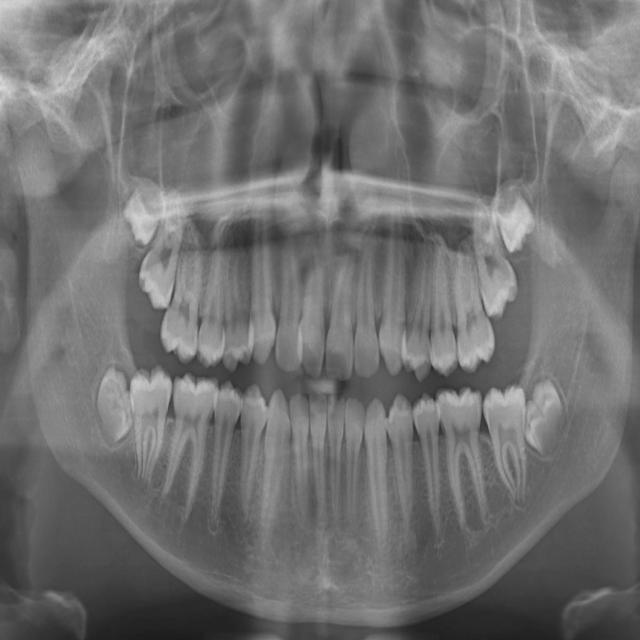3M ESPE Implant: (112, 173, 166, 251)
AGS Medikal Implant: (483, 378, 531, 512)
AMerOss Implant: (436, 383, 496, 538)
Amalgam filling: (128, 181, 204, 312)
Anthogyr Implant: (409, 390, 453, 547)
Bicon Implant: (388, 388, 414, 556)
BioHorizons Implant: (361, 391, 390, 562)
BioLife Implant: (339, 396, 365, 545)
Biomet 3i Implant: (323, 391, 348, 529)
Blue Sky Bio Implant: (298, 388, 332, 541)
Camlog Implant: (288, 387, 316, 531)
Caries: (352, 224, 380, 381)
Composite filling: (250, 382, 297, 567)
Cowellmedi Implant: (233, 381, 267, 530)
Crown: (201, 378, 242, 544)
DENTSPLY Implant: (155, 222, 205, 365)
Dentatus Implant: (150, 367, 219, 533)
Dentis Implant: (129, 362, 171, 496)
Dentium Implant: (92, 361, 131, 452)
Euroteknika Implant: (196, 207, 231, 369)
Filling: (221, 235, 250, 378)
Frontier Implant: (250, 171, 277, 373)
Hiossen Implant: (378, 192, 409, 383)
Implant: (297, 221, 330, 383)
Implant Direct: (273, 211, 305, 374)
Keystone Dental Implant: (319, 230, 373, 386)
MIS Implant: (404, 211, 434, 384)
Mandible: (424, 206, 456, 380)
Maxilla: (447, 229, 499, 379)
Megagen Implant: (458, 184, 530, 326)
Neodent Implant: (482, 176, 546, 257)
Neoss Implant: (522, 371, 572, 469)
